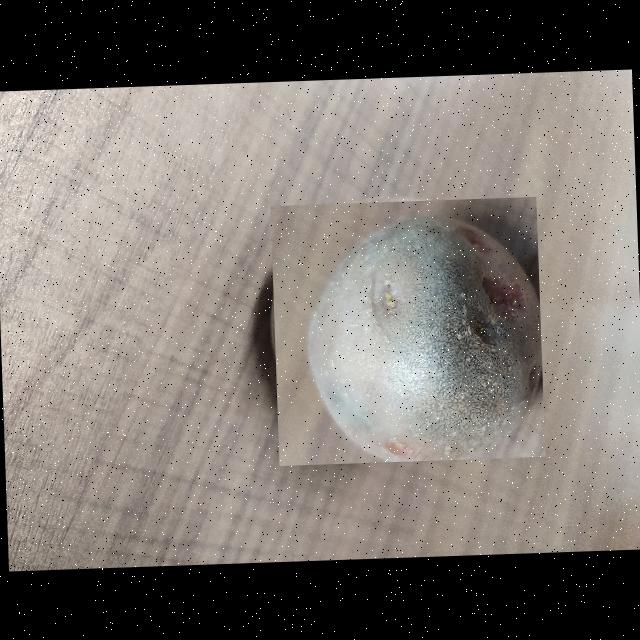Damaged potato: (270, 197, 545, 466)
